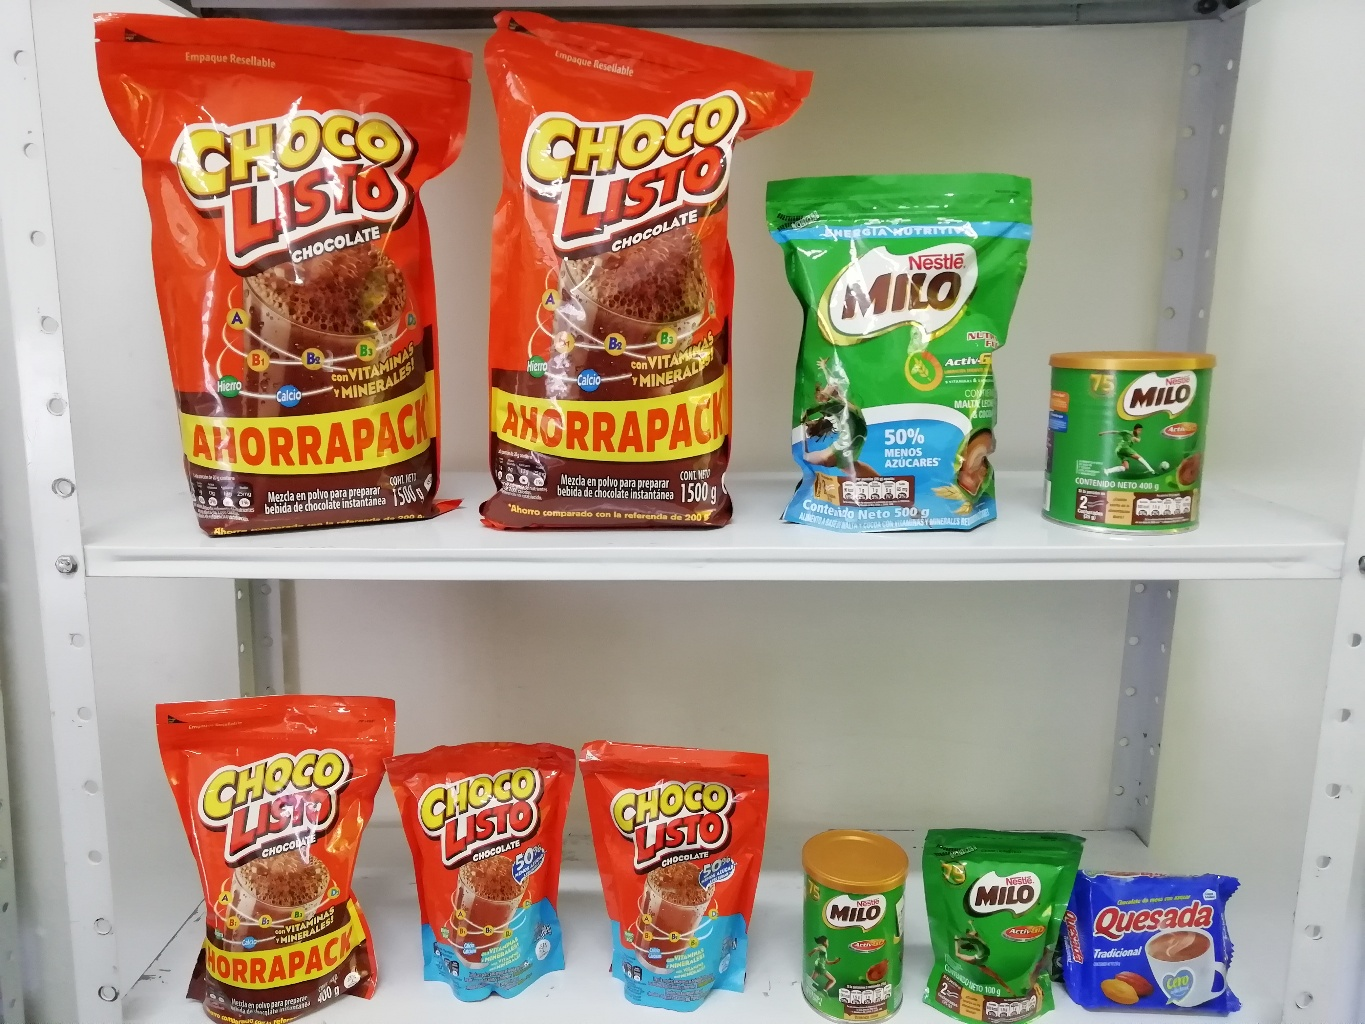COL0170103DYP1,500: (465, 2, 823, 543)
COL0170103DYP40000: (155, 696, 394, 1020)
COL0170104DYP20000: (575, 733, 773, 1018)
COL0170203DYP10000: (923, 817, 1081, 1024)
COL0170203LAT20000: (794, 815, 925, 1020)
COL0170203LAT40000: (1042, 339, 1228, 538)
COL0170205DYP50000: (755, 170, 1041, 539)
